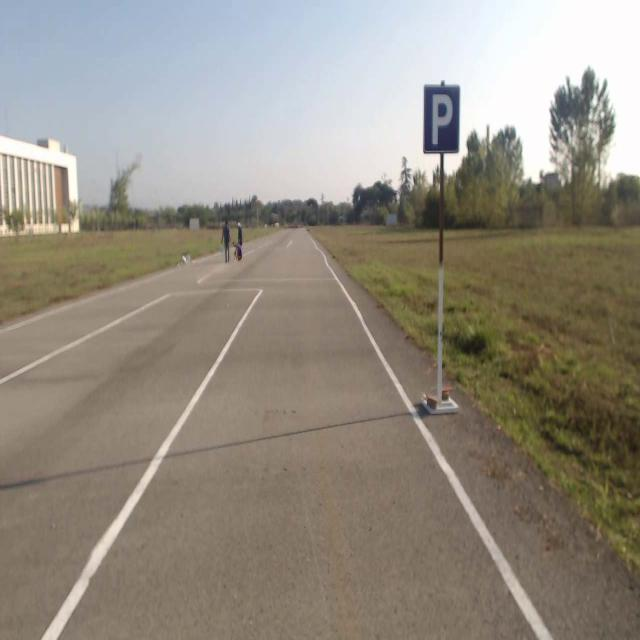park: (423, 84, 460, 154)
